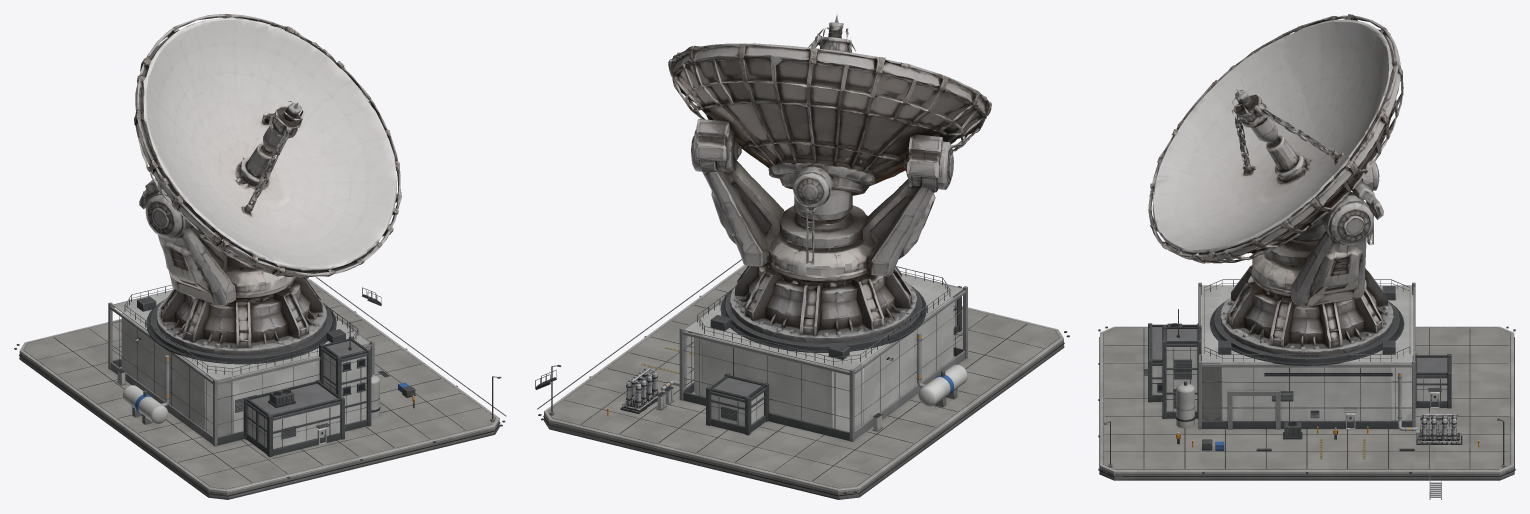
Rendered from radio_telescope.glb.
3 renders of one model, left to right at view 1: azimuth 30°, elevation 25°; view 2: azimuth 150°, elevation 25°; view 3: azimuth 270°, elevation 25°, orthographic. The views are drawn at different scales.
Visible parts, largest first — view 1: parts_colony-dishMount, hull; view 2: parts_colony-dishMount, hull, parts_colony-filterBank; view 3: hull, parts_colony-dishMount, parts_colony-filterBank.
Boxes of the visible parts, <box> form: parts_colony-dishMount: <box>134,14,401,355</box>; hull: <box>14,277,506,499</box>; parts_colony-dishMount: <box>668,14,991,343</box>; hull: <box>535,259,1069,499</box>; parts_colony-filterBank: <box>620,367,659,413</box>; hull: <box>1098,279,1515,499</box>; parts_colony-dishMount: <box>1148,14,1403,356</box>; parts_colony-filterBank: <box>1416,412,1462,444</box>.
Size of the model in its own units: 54.28 by 55.3 by 58.42.
Materials: 6 (6 with a texture image).
